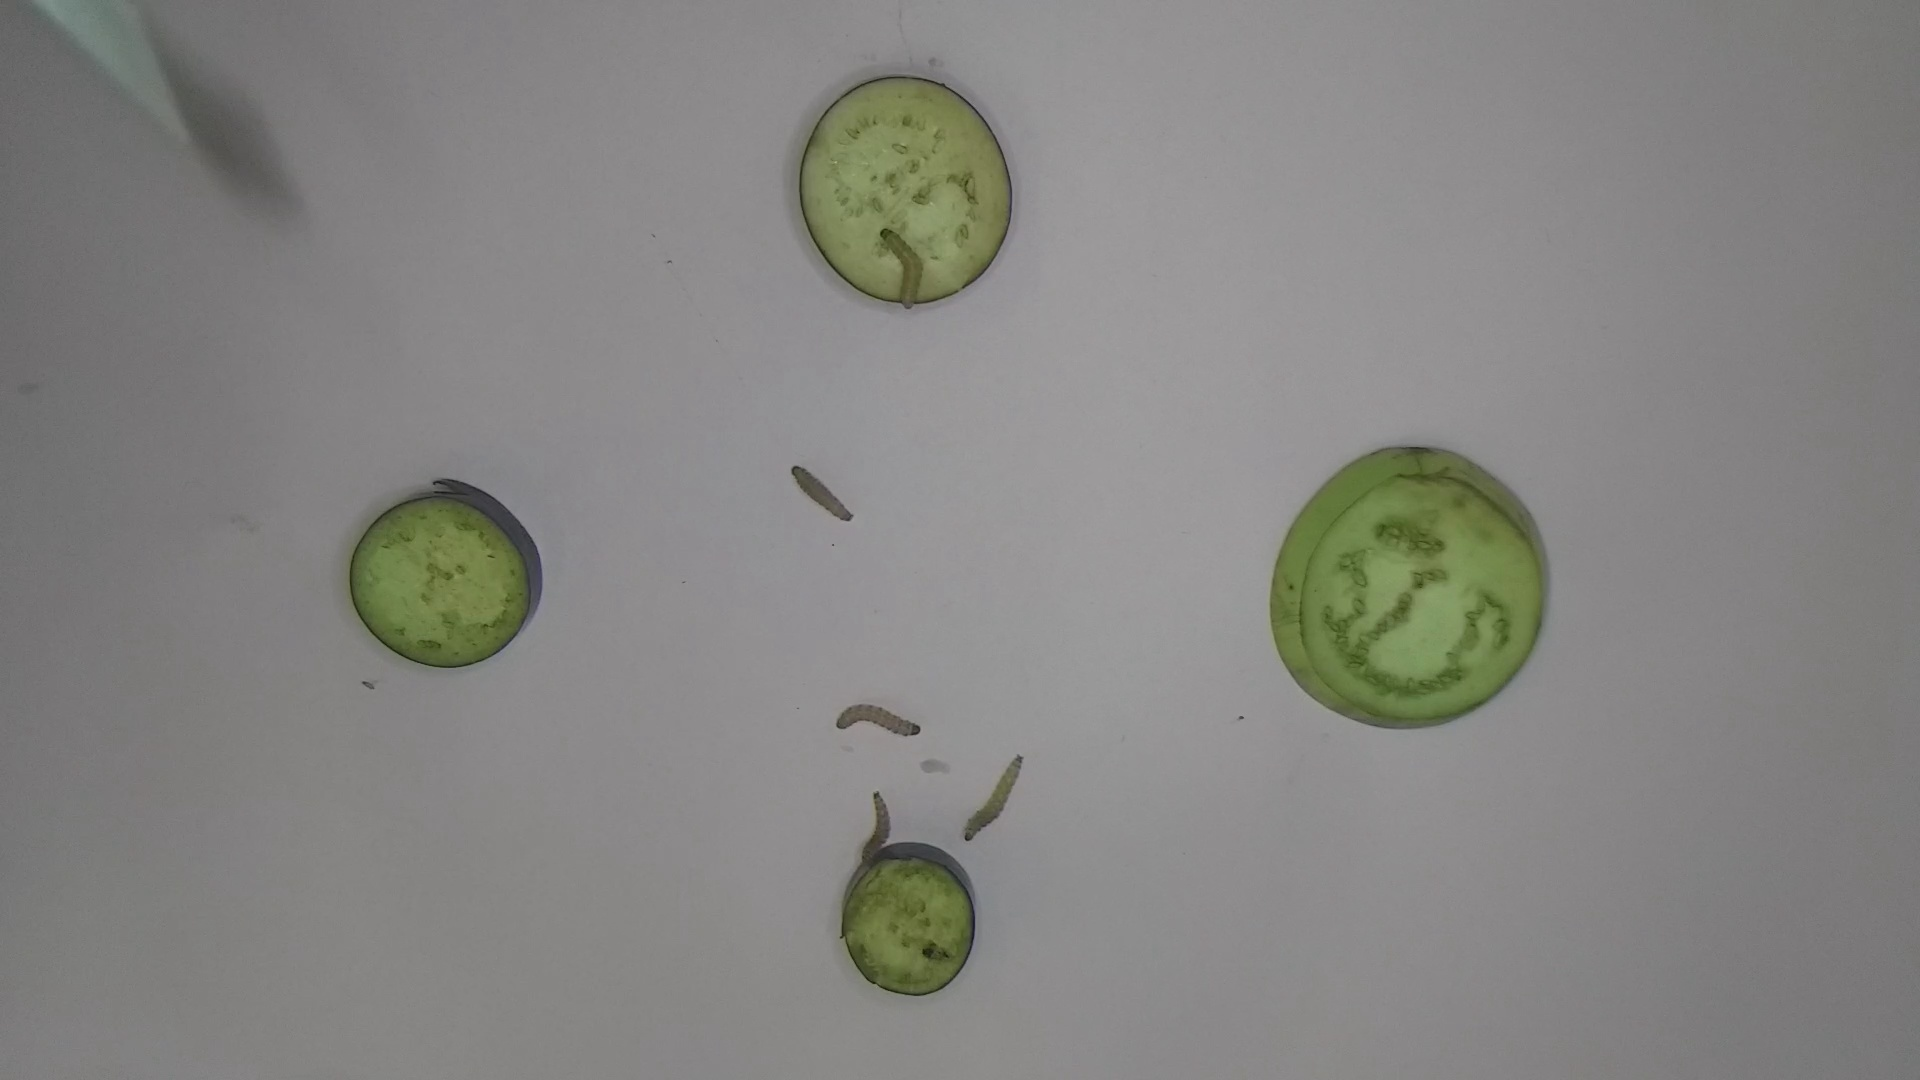efsb: (956, 742, 1033, 855), (787, 452, 872, 531), (872, 220, 926, 320), (825, 696, 934, 742), (856, 785, 901, 872)
eggplant: (1258, 436, 1557, 735), (783, 65, 1015, 313), (336, 471, 556, 675), (839, 831, 981, 1007)
